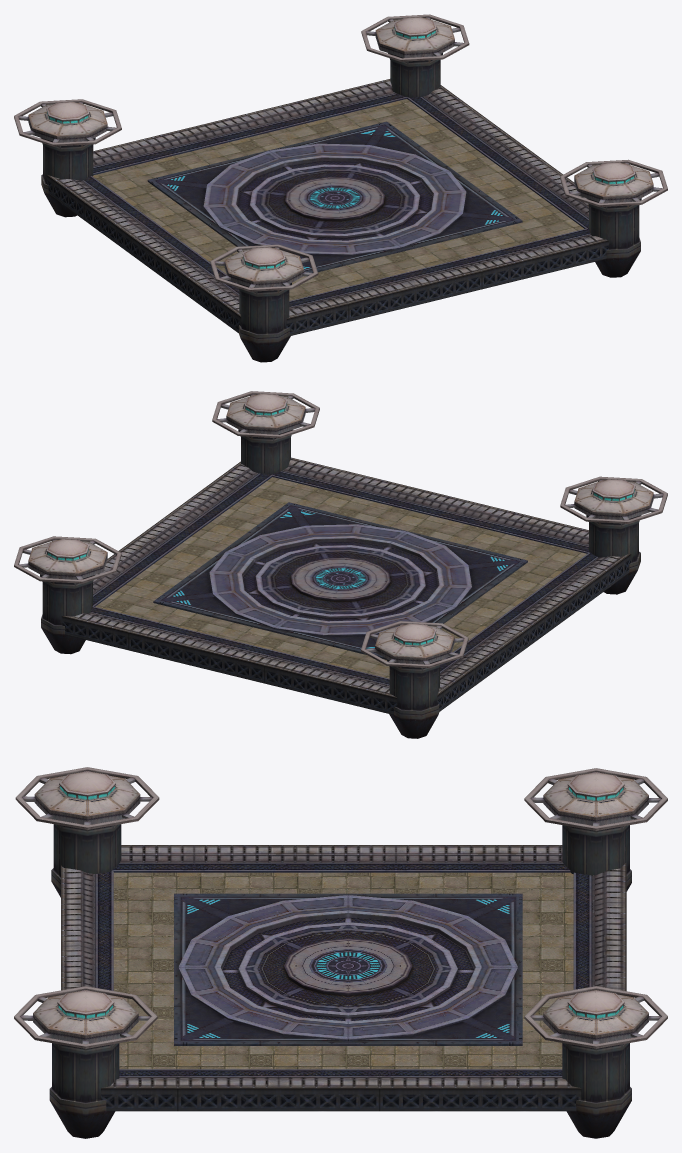
The model's file is zc_lekesigang_dafangtai01.FBX.
3 views of the same model, one above another, from view 1: azimuth 30°, elevation 25°; view 2: azimuth 150°, elevation 25°; view 3: azimuth 270°, elevation 25° (orthographic). The views are drawn at different scales.
Visible parts, largest first — view 1: zc_lekesigang_dafangtai01; view 2: zc_lekesigang_dafangtai01; view 3: zc_lekesigang_dafangtai01.
Part boxes in pixels (left/top/right/bottom): zc_lekesigang_dafangtai01: left=14, top=14, right=667, bottom=362; zc_lekesigang_dafangtai01: left=14, top=391, right=667, bottom=738; zc_lekesigang_dafangtai01: left=14, top=767, right=667, bottom=1138.
Size of the model in its own units: 2129 by 490 by 2104.
2 materials, 2 textured.
